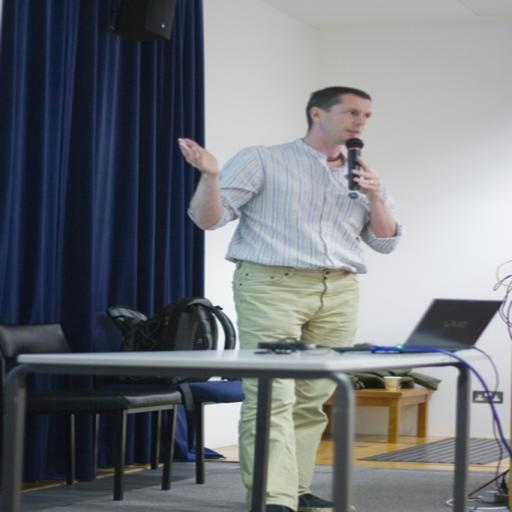Person: (184, 51, 397, 507)
no_gloves: (198, 116, 240, 196), (320, 146, 354, 220)
no_goggle: (279, 88, 344, 128)
no_helmet: (267, 72, 347, 148)
none: (230, 138, 338, 284)
